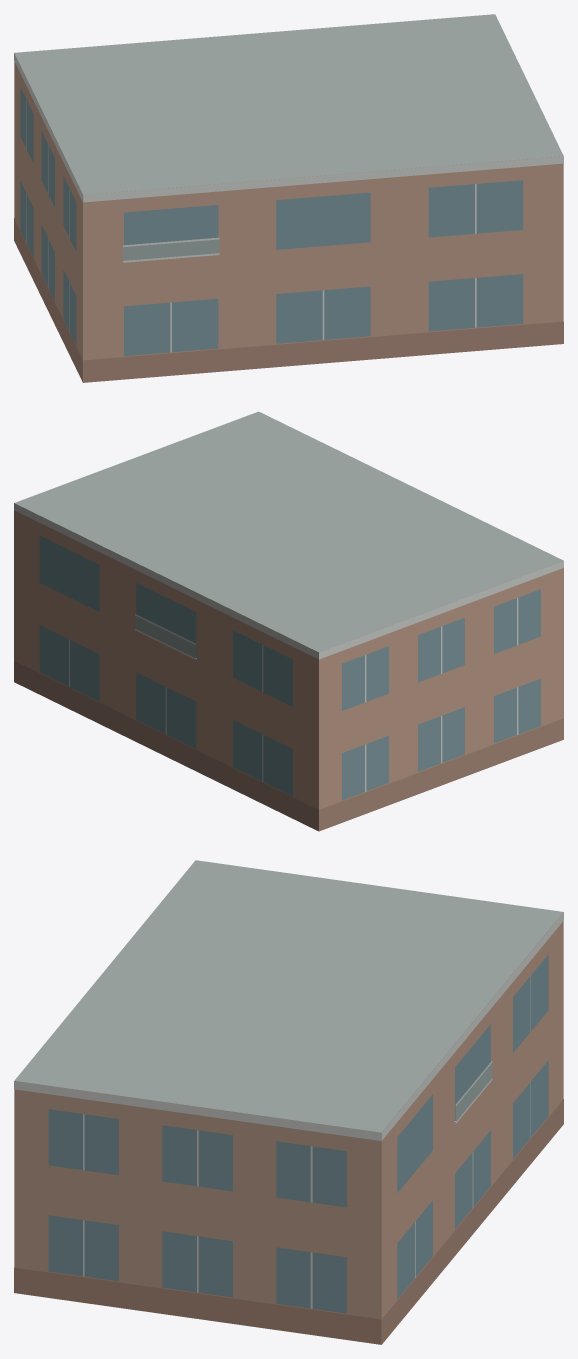
Rendered from survey-upis-32848004.glb.
The picture shows the model from 3 angles, top to bottom: view 1: azimuth 30°, elevation 25°; view 2: azimuth 150°, elevation 25°; view 3: azimuth 270°, elevation 25°; orthographic projection. The views are drawn at different scales.
Visible parts, largest first — view 1: survey-upis-32848004.tmp; view 2: survey-upis-32848004.tmp; view 3: survey-upis-32848004.tmp.
Boxes of the visible parts, left/top/right/bottom form: survey-upis-32848004.tmp: left=14, top=14, right=563, bottom=382; survey-upis-32848004.tmp: left=14, top=411, right=563, bottom=831; survey-upis-32848004.tmp: left=14, top=860, right=563, bottom=1344.
Bounding box in the file's own units: 16.82 × 6.1 × 14.33.
